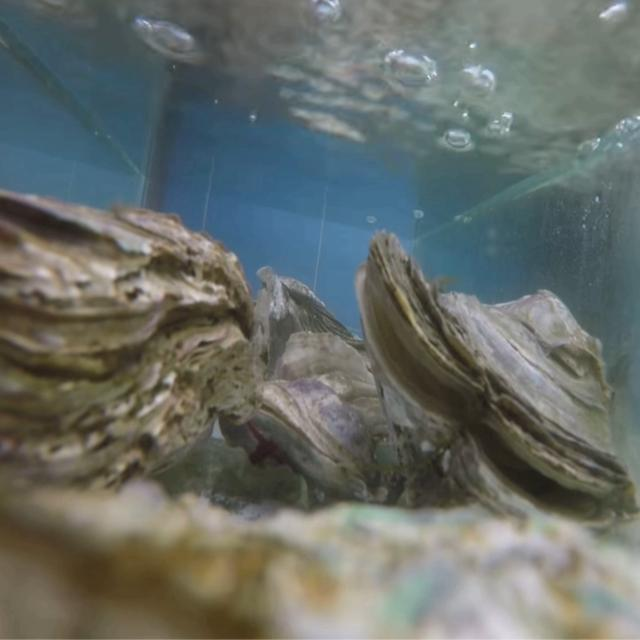Oyster-Closed: (0, 188, 256, 524), (249, 334, 417, 511)
Oyster-Indeterminate: (0, 481, 640, 640)
Oyster-Open: (355, 227, 640, 544)
